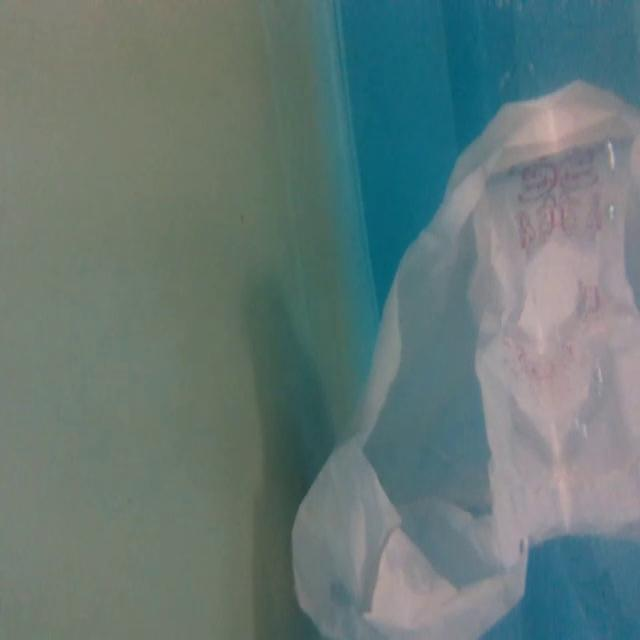plastic bags: (286, 79, 640, 639)
